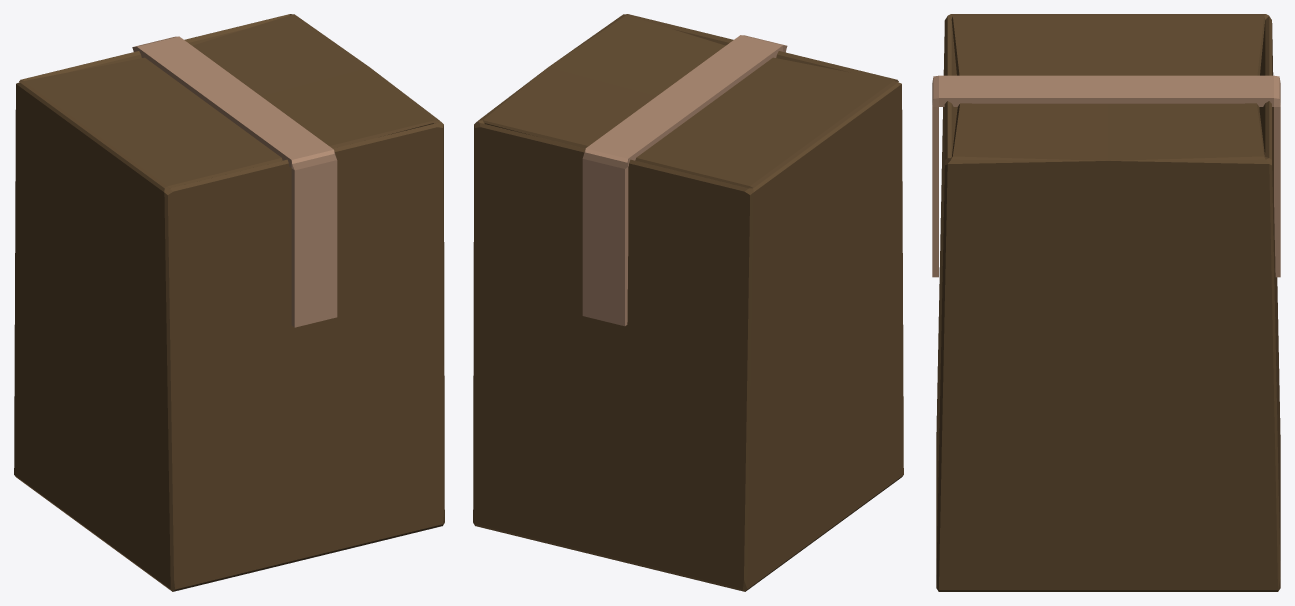
File: Tall Box.fbx
3 renders of one model, left to right at view 1: azimuth 30°, elevation 25°; view 2: azimuth 150°, elevation 25°; view 3: azimuth 270°, elevation 25°, orthographic. The views are drawn at different scales.
Visible parts, largest first — view 1: Cube.004; view 2: Cube.004; view 3: Cube.004.
Boxes of the visible parts, bbox=[...] form: Cube.004: bbox=[14, 14, 444, 591]; Cube.004: bbox=[473, 14, 903, 591]; Cube.004: bbox=[932, 14, 1280, 591].
Bounding box in the file's own units: 249 × 343 × 248.
